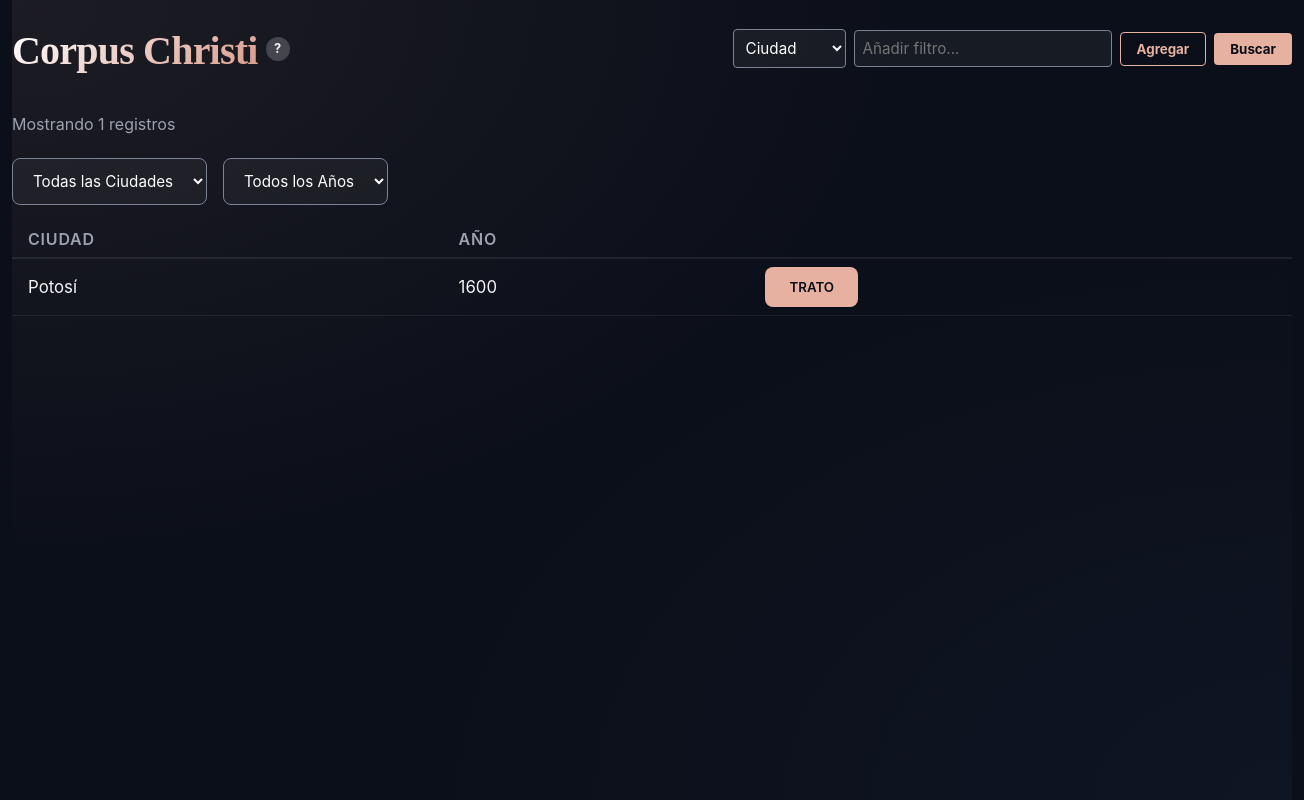
Scenario: Corpus Christi: sigla en vez de número de registro › un valor sin resolver se muestra como texto atenuado, sin botón
Click the button "TRATO": (812, 287) [765,267,858,307]
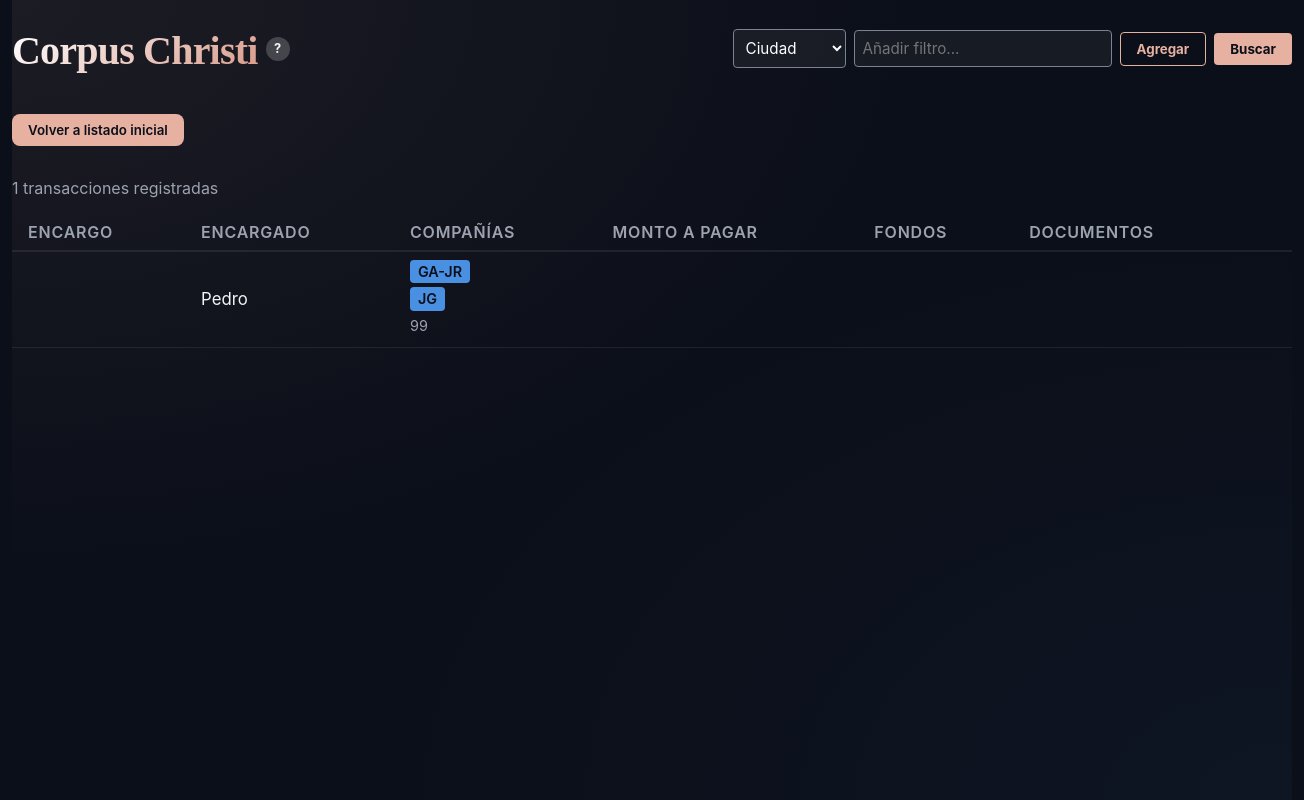
expect the button "GA-JR" is shown: met, box [410,260,470,283]
expect the text "99" is shown: met, box [410,316,428,334]
